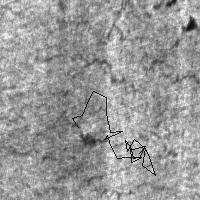crazing: (1, 94, 179, 198), (3, 19, 198, 99), (72, 91, 155, 175)
